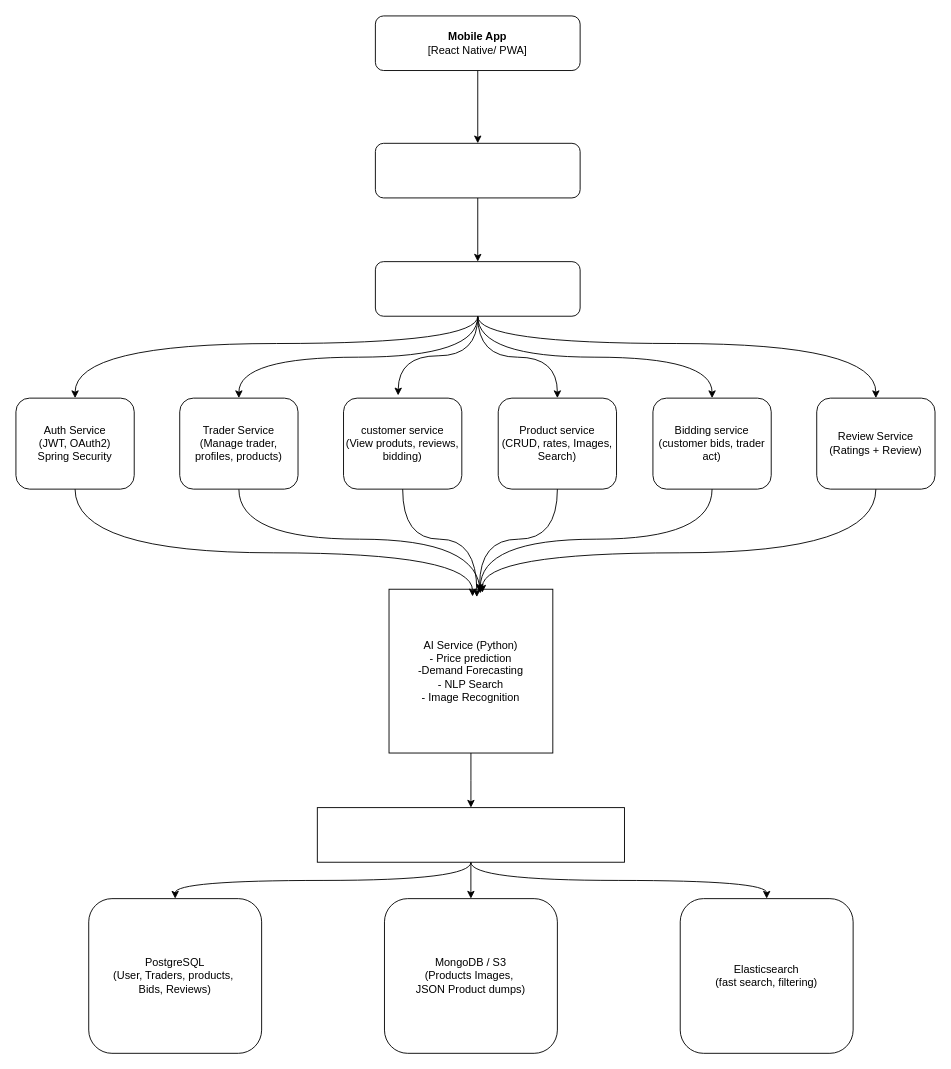
The diagram is 951 pixels wide and 1069 high, and some of its shapes have lost their labels. Here are the shapes that lost their labels. From the top down, the box of each, then its label:
(374, 142, 580, 198): Web App [React]
(374, 261, 580, 316): API Gateway / LB [Spring Cloud Gateway / Nginx]
(316, 807, 624, 862): Message Broker [Kafka / Redis Streams]
